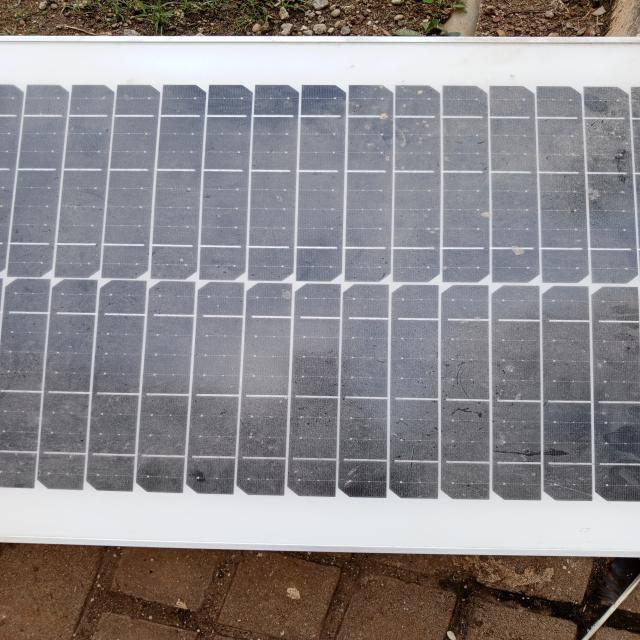Surface Contaminant: (16, 65, 639, 492)
